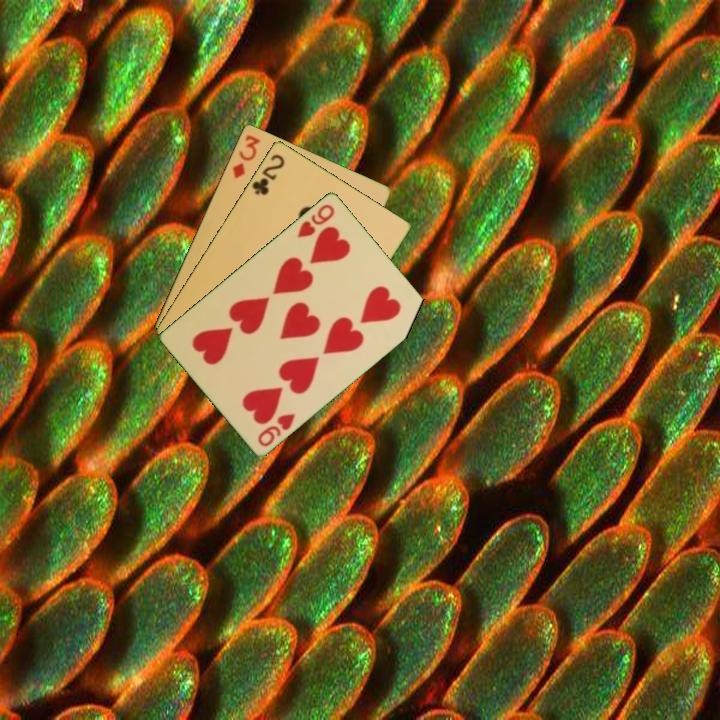2c: (248, 150, 288, 198)
3d: (229, 131, 263, 181)
9h: (293, 200, 338, 240), (254, 409, 298, 449)
